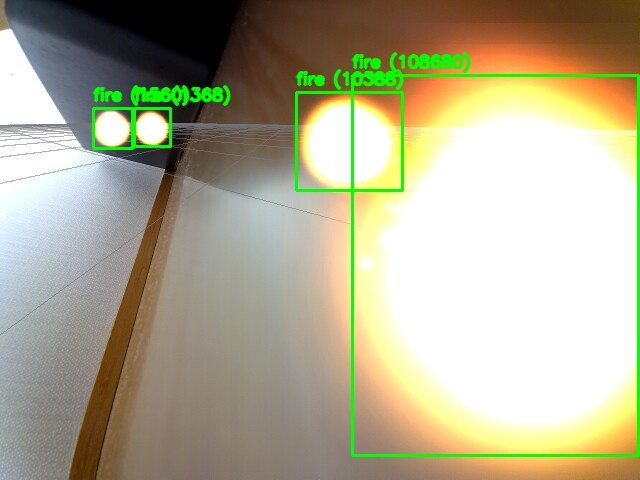fire: (352, 75, 638, 455), (296, 92, 402, 190), (93, 108, 132, 148), (134, 108, 170, 146)
